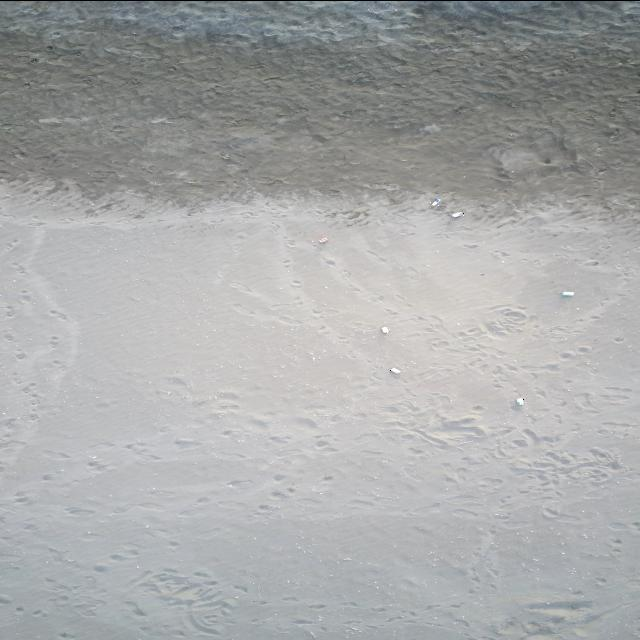Garbage: (449, 211, 464, 218), (431, 196, 440, 207), (515, 397, 524, 406), (318, 236, 327, 243), (560, 291, 572, 296), (390, 367, 400, 372), (380, 326, 387, 333)
